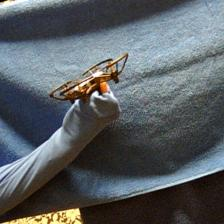drone: (48, 55, 132, 104)
